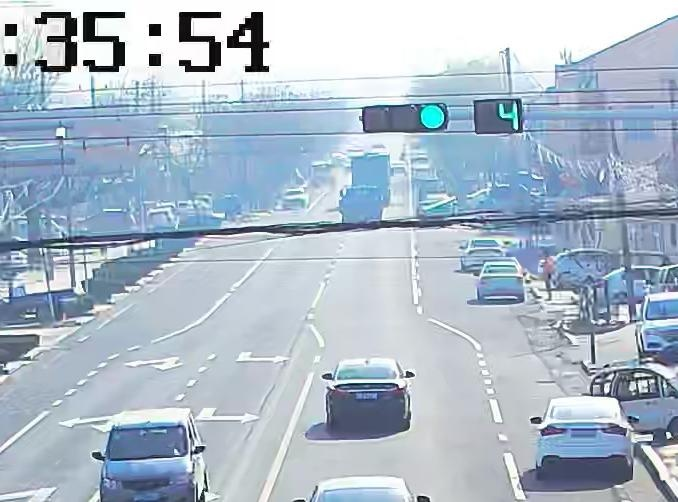green: (417, 105, 447, 131)
greentime: (495, 100, 523, 133)
